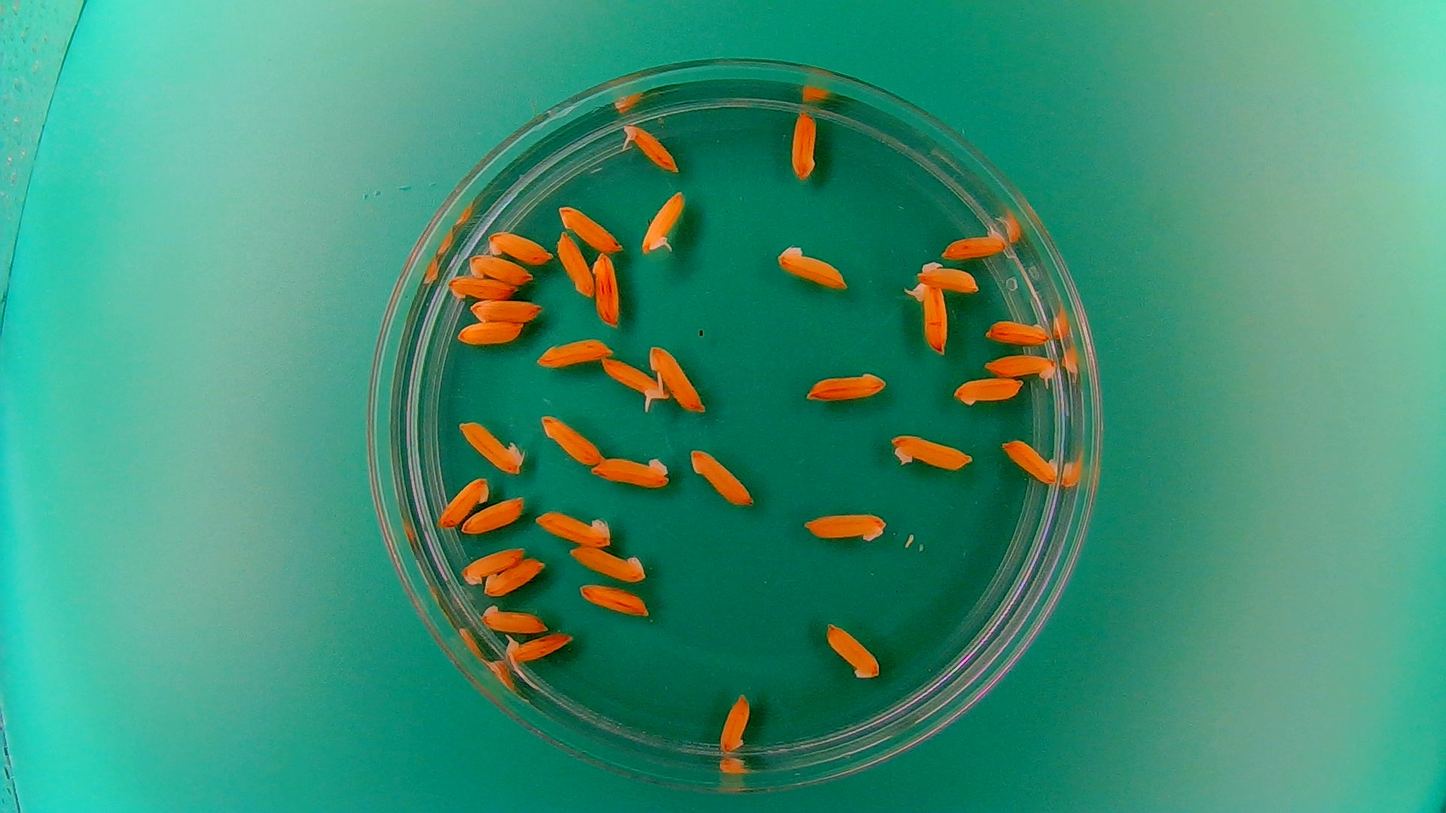no: (647, 340, 706, 416), (687, 444, 756, 507), (773, 240, 852, 291), (456, 416, 526, 473), (886, 429, 975, 473), (537, 411, 605, 467), (824, 620, 883, 681), (531, 505, 614, 547), (556, 202, 624, 253), (799, 506, 890, 544), (566, 543, 648, 583), (589, 452, 672, 491), (804, 365, 889, 403), (434, 473, 490, 529), (999, 436, 1061, 485), (533, 333, 616, 368), (460, 492, 526, 535), (575, 582, 650, 619), (459, 544, 526, 585), (484, 227, 554, 266), (556, 229, 595, 299), (590, 249, 623, 330), (483, 556, 547, 597), (951, 374, 1023, 408), (479, 601, 551, 635), (464, 251, 533, 286), (788, 107, 820, 181), (916, 259, 981, 294), (445, 271, 523, 300), (717, 690, 752, 754), (983, 315, 1051, 346), (468, 297, 541, 324), (453, 318, 523, 346)
yes: (598, 353, 668, 408), (617, 118, 680, 175), (905, 278, 949, 356), (639, 187, 687, 256), (502, 628, 575, 669), (940, 220, 1010, 260), (981, 350, 1061, 385)
